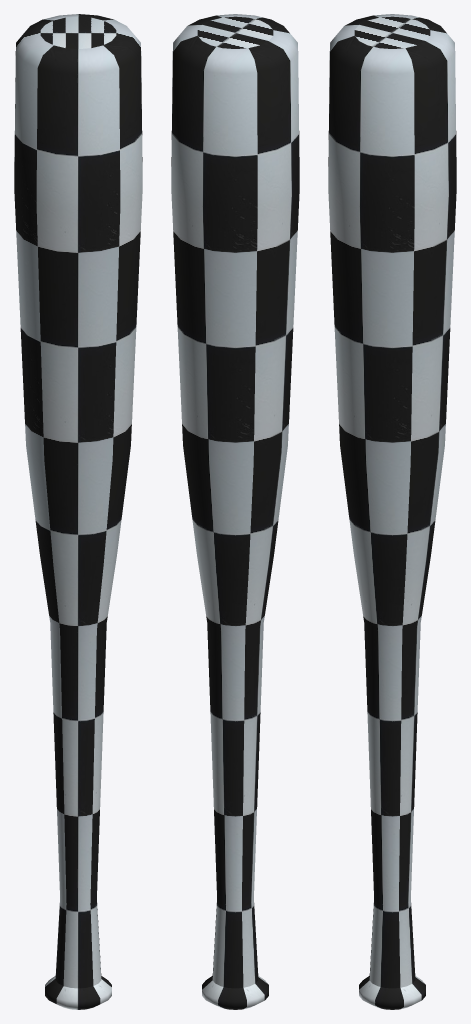
File: Baseballbat.FBX
3 renders of one model, left to right at view 1: azimuth 90°, elevation 25°; view 2: azimuth 150°, elevation 25°; view 3: azimuth 330°, elevation 25°, orthographic.
Visible parts, largest first — view 1: BaseballBat; view 2: BaseballBat; view 3: BaseballBat.
Part boxes in pixels (x1,y1,x2,y2): BaseballBat: (14, 14, 142, 1009); BaseballBat: (171, 14, 299, 1009); BaseballBat: (328, 14, 456, 1009).
Bounding box in the file's own units: 39.99 × 39.38 × 327.
